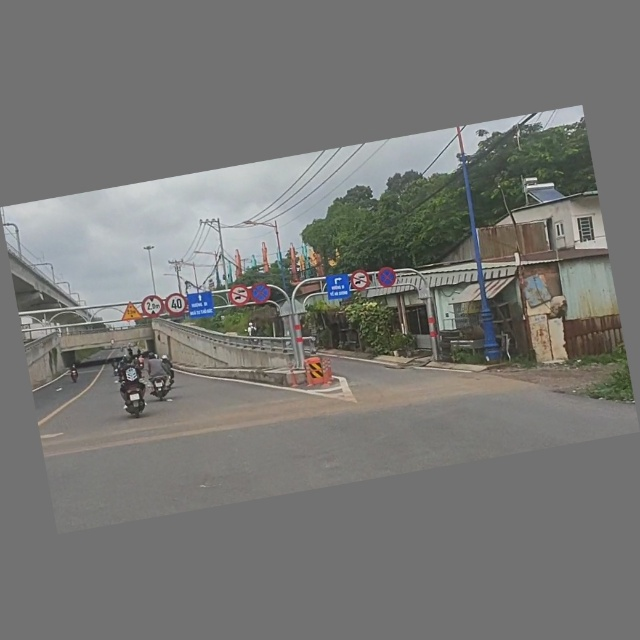P.107: (227, 283, 254, 309), (349, 269, 372, 293)
P.117*: (140, 294, 166, 321)
P.127*40: (164, 292, 190, 319)
P.130: (250, 281, 273, 306), (376, 266, 399, 290)
W.239b*: (119, 300, 144, 324)
